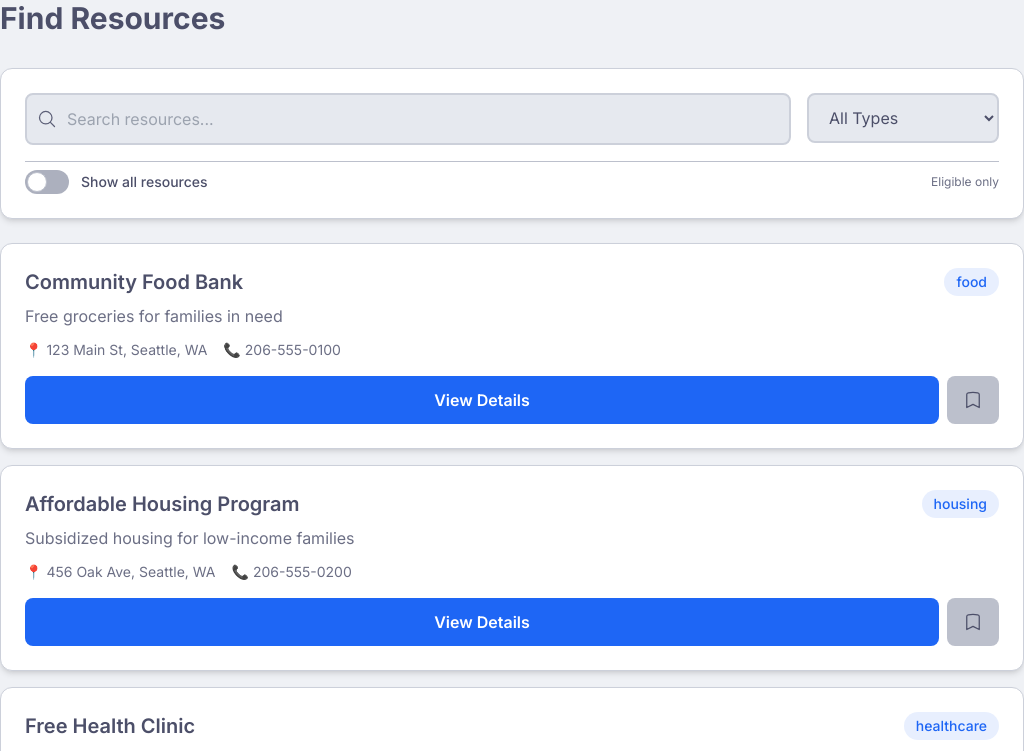
Test: Resources Page - Search and Bookmark Tests › Search Functionality › should show no results message when search has no matches
Expected: the heading "Community Food Bank" is shown, [25,268,243,296]
Step 1. Type "nonexistent resource" into the search field with placeholder "Search resources..." → (408, 119), box [25,93,791,145]
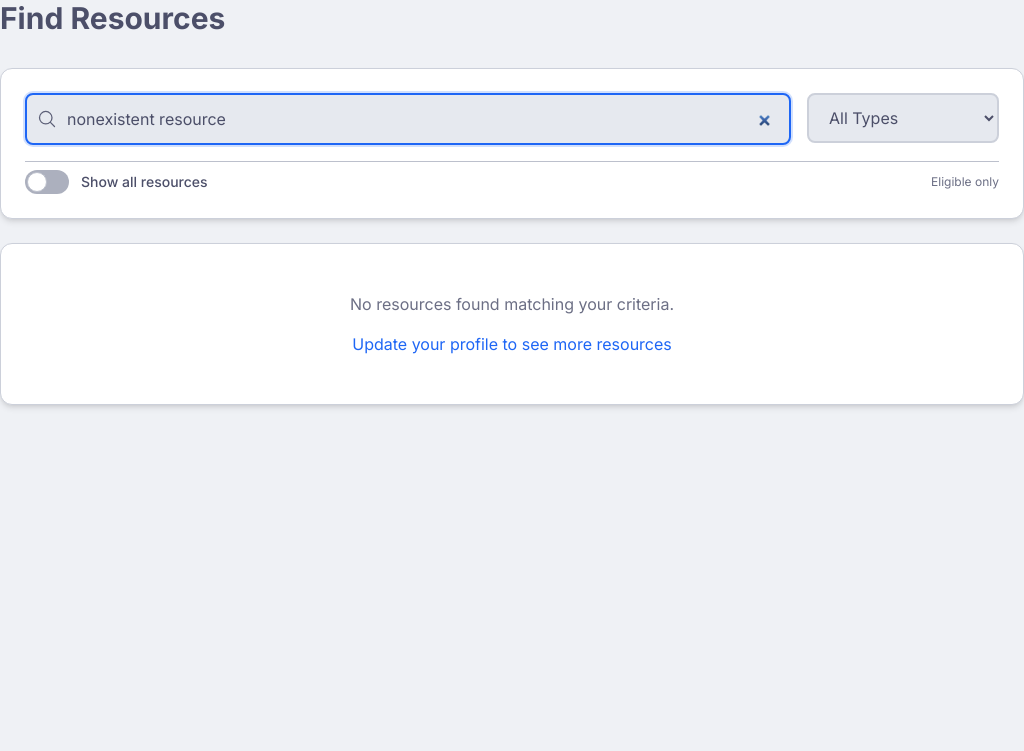
Now the text "No resources found matching your criteria." is shown, box [350,294,674,314]
